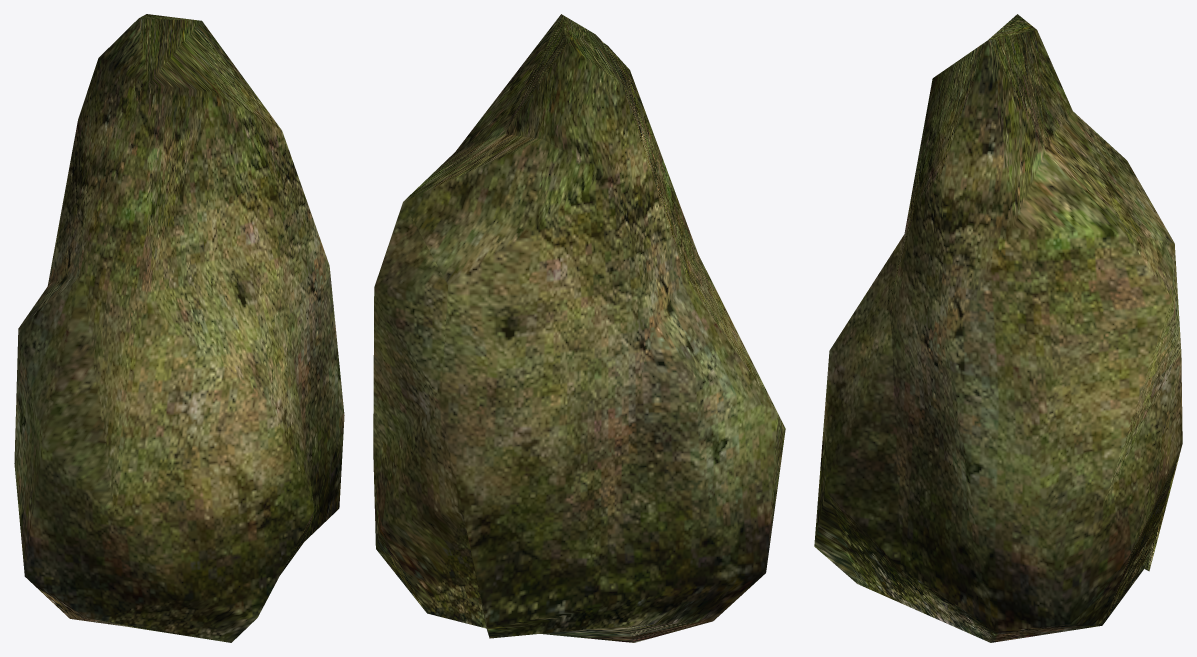
The model's file is rock_endr_mossyrock_lg_l1.fbx.
The picture shows the model from 3 angles, left to right: view 1: azimuth 30°, elevation 25°; view 2: azimuth 150°, elevation 25°; view 3: azimuth 270°, elevation 25°; orthographic projection. The views are drawn at different scales.
Visible parts, largest first — view 1: mesh_node; view 2: mesh_node; view 3: mesh_node.
Part boxes in pixels (x1,y1,x2,y2): mesh_node: (14, 14, 344, 642); mesh_node: (373, 14, 785, 642); mesh_node: (814, 14, 1182, 642).
Size of the model in its own units: 1.66 by 2.81 by 1.58.
